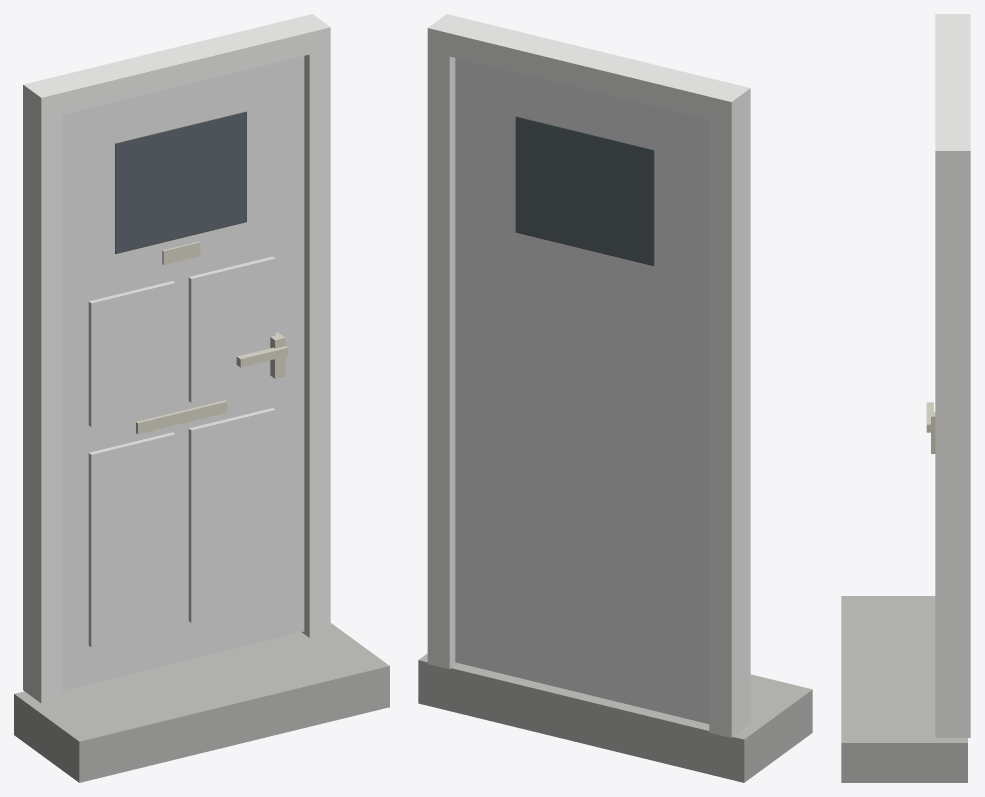
Rendered from door.glb.
The picture shows the model from 3 angles, left to right: view 1: azimuth 30°, elevation 25°; view 2: azimuth 150°, elevation 25°; view 3: azimuth 270°, elevation 25°; orthographic projection. The views are drawn at different scales.
Visible parts, largest first — view 1: door_leaf, door_frame; view 2: door_leaf, door_frame; view 3: door_frame, door_leaf.
Boxes of the visible parts, x1,y1,x2,y2 form: door_leaf: (62, 56, 304, 690); door_frame: (14, 14, 389, 782); door_leaf: (455, 58, 709, 723); door_frame: (418, 14, 812, 782); door_frame: (841, 14, 970, 782); door_leaf: (926, 402, 935, 453).
Bounding box in the file's own units: 1.18 × 2.35 × 0.44.
